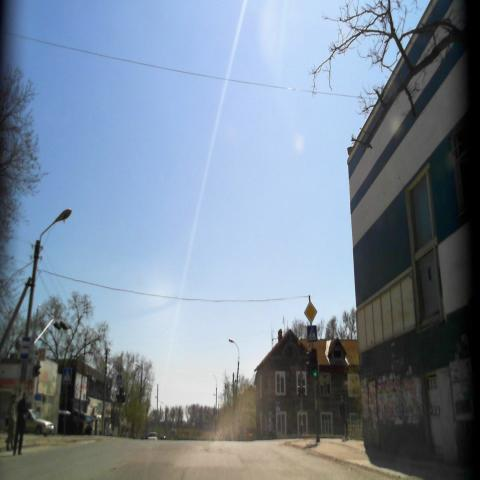2_1: (305, 303, 318, 324)
